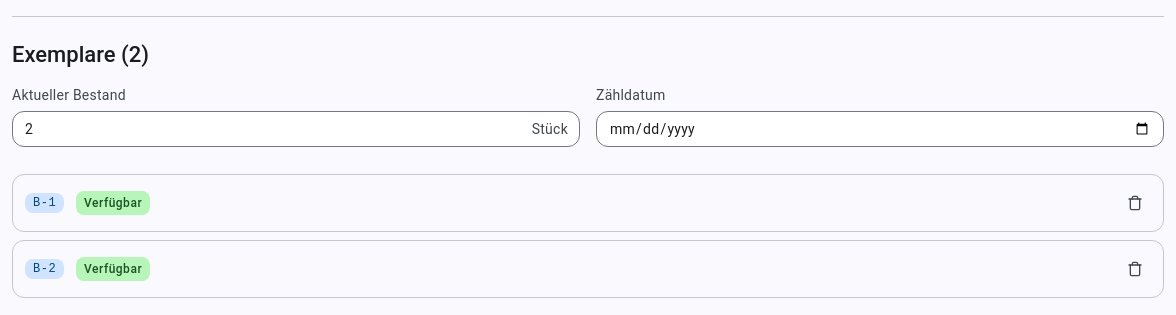
Test: BuchExemplareListe › ein gelöschtes Exemplar verlässt die Liste und zählt als ausgesondert
This screenshot has width=1176, height=315.
Expected: the text "B-1" is shown, [25,193,64,213]
What coordinates should you click on to do the following:
click the button named "Exemplar löschen" in the row of "B-1"
I would click on:
 (1135, 203)
Its box is [1119,187,1151,219].
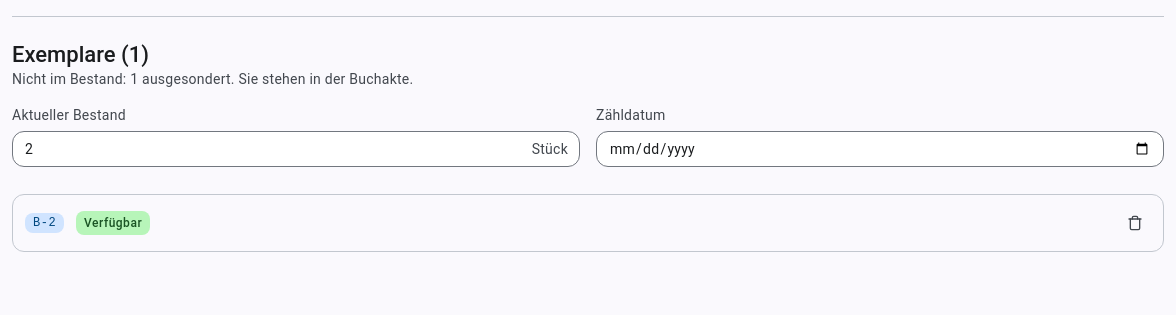
Expected: the heading "Exemplare (1)" is shown, [12,42,149,67]
Expected: the text "Nicht im Bestand: 1 ausgesondert." is shown, [12,71,413,87]
